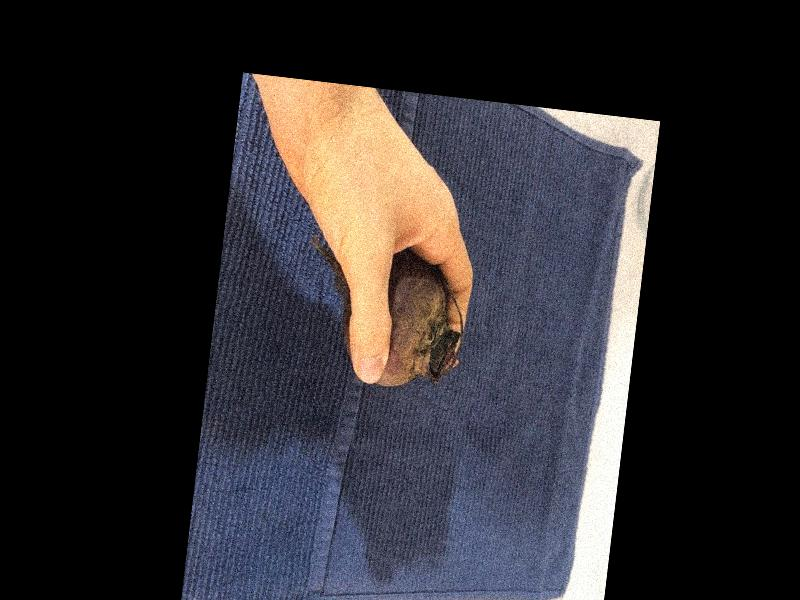Beet: (293, 240, 470, 395)
